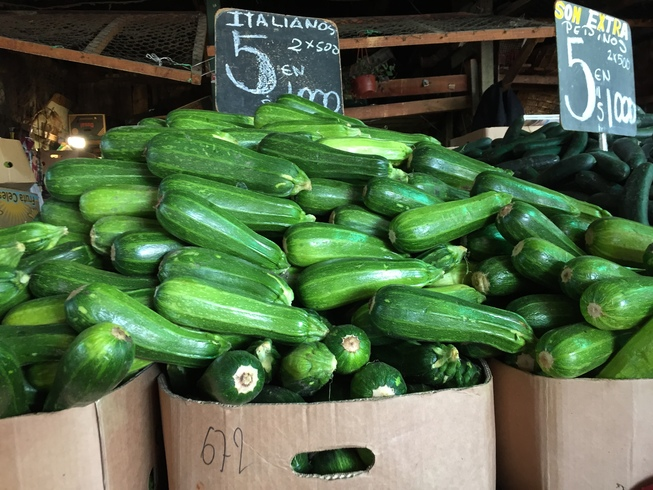precio: (208, 5, 349, 127), (554, 1, 638, 139)
